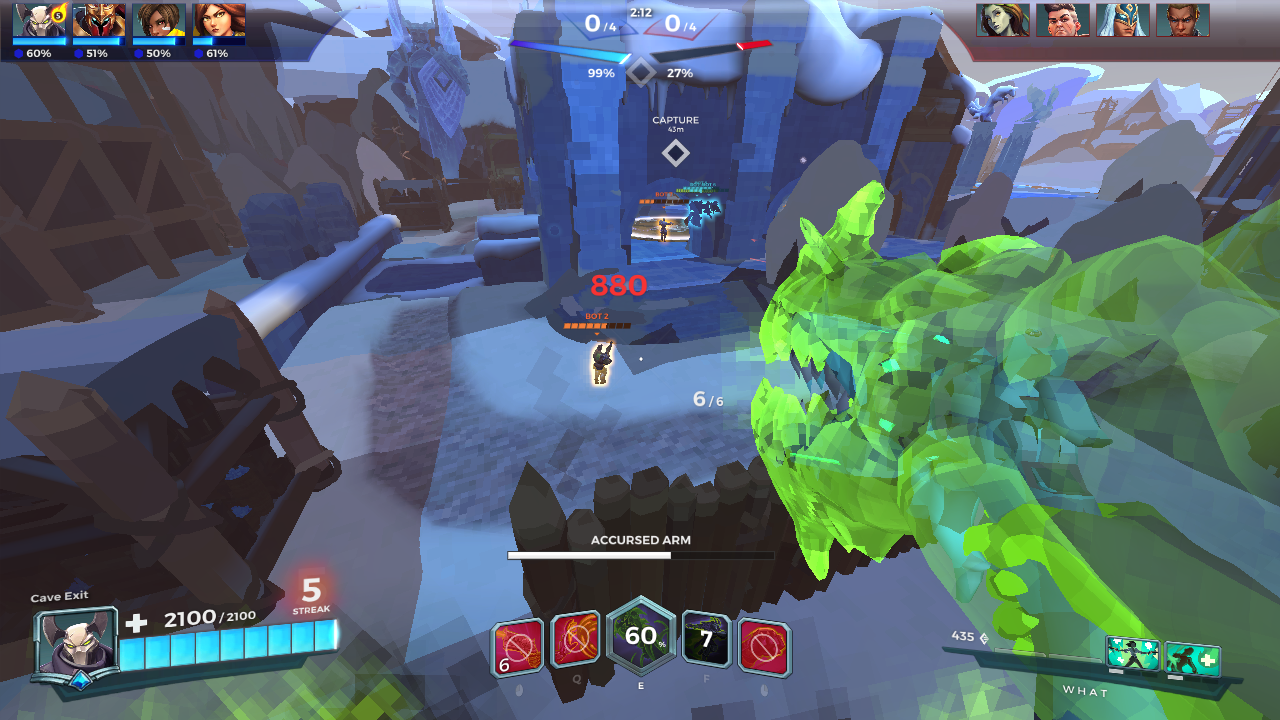model: (588, 337, 615, 391), (653, 213, 677, 246)
